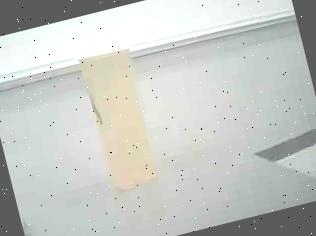Bottle A: (70, 32, 170, 202)
